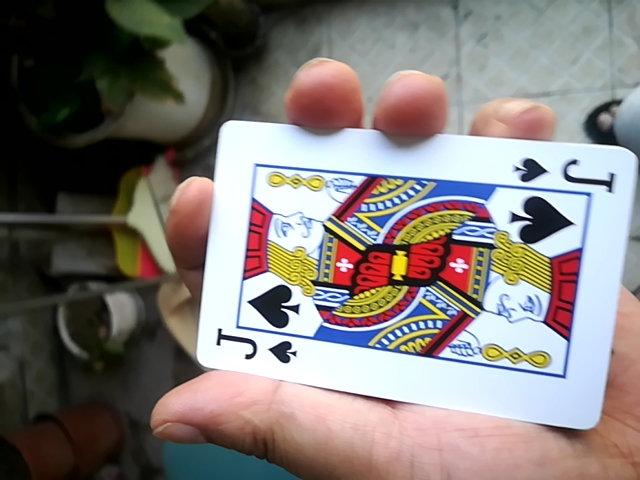ht j: (173, 109, 636, 426)
